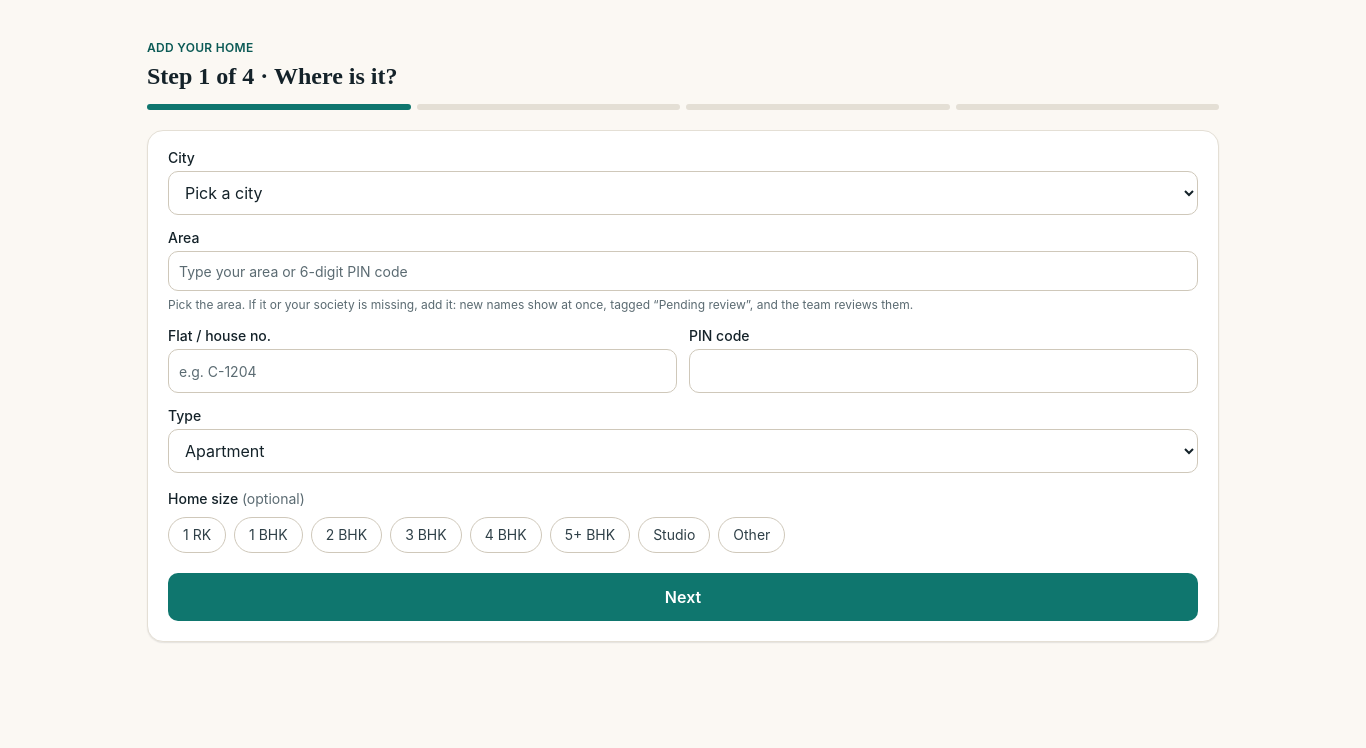
Scenario: area suggestions in Add your home › a PIN code typed with no city picked suggests that PIN's areas and fills the city
Type "411045" into the dropdown labelled "Area" at [683, 271], box [168,251,1198,291]
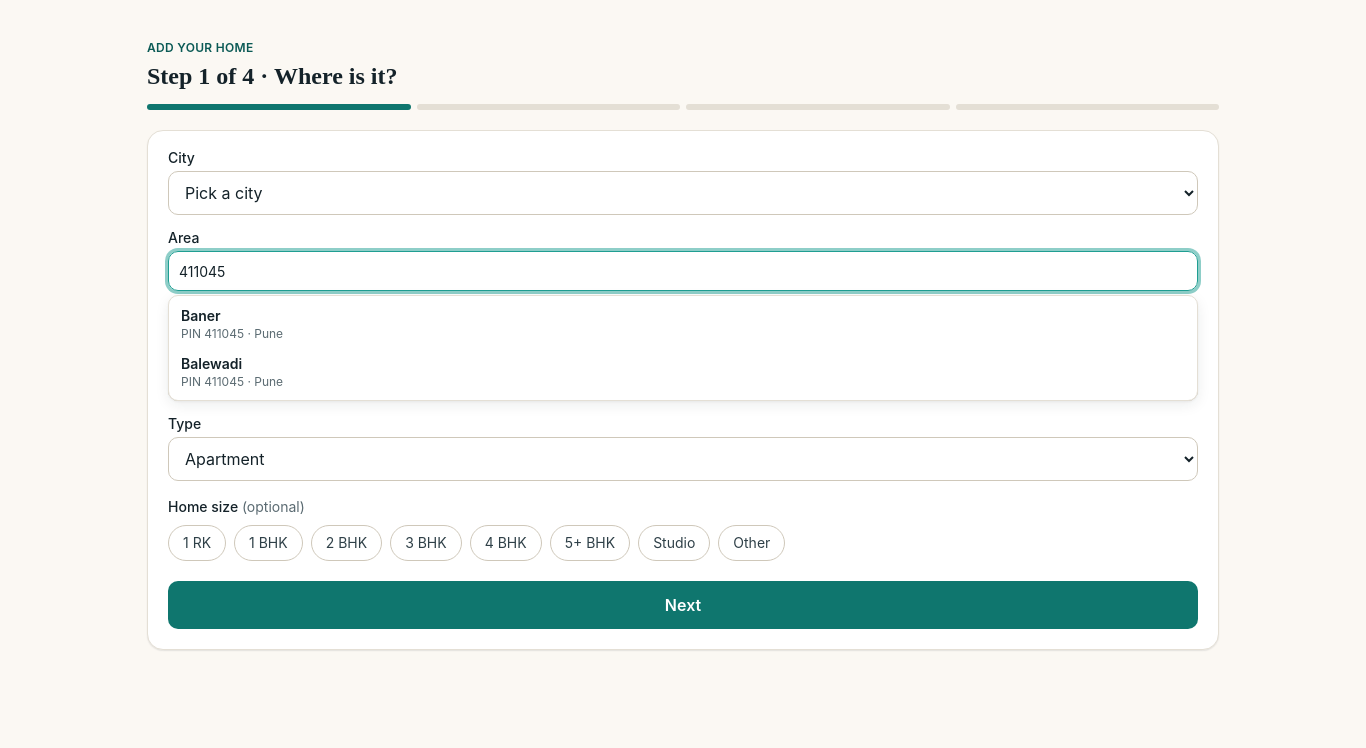
Expected: the option with aria-label "Baner, PIN 411045 · Pune" is shown
Expected: the number of options is 2
Click the option "Baner PIN 411045 · Pune" at [232, 324], box [181,307,283,341]
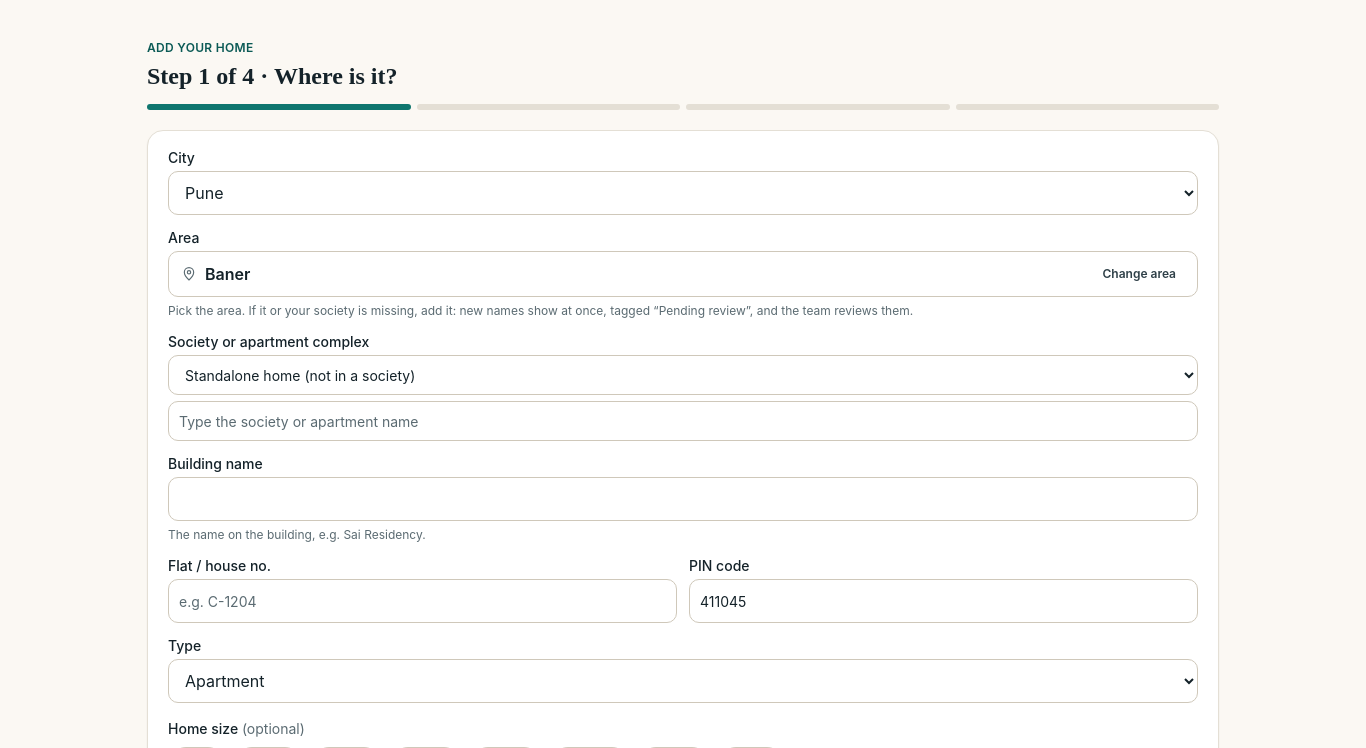
Expected: the text "Baner" is shown, [205,262,250,286]
Expected: the dropdown labelled "City" shows "Pune", [168,171,1198,215]
Expected: the field labelled "PIN code" holds "411045", [689,579,1198,623]
